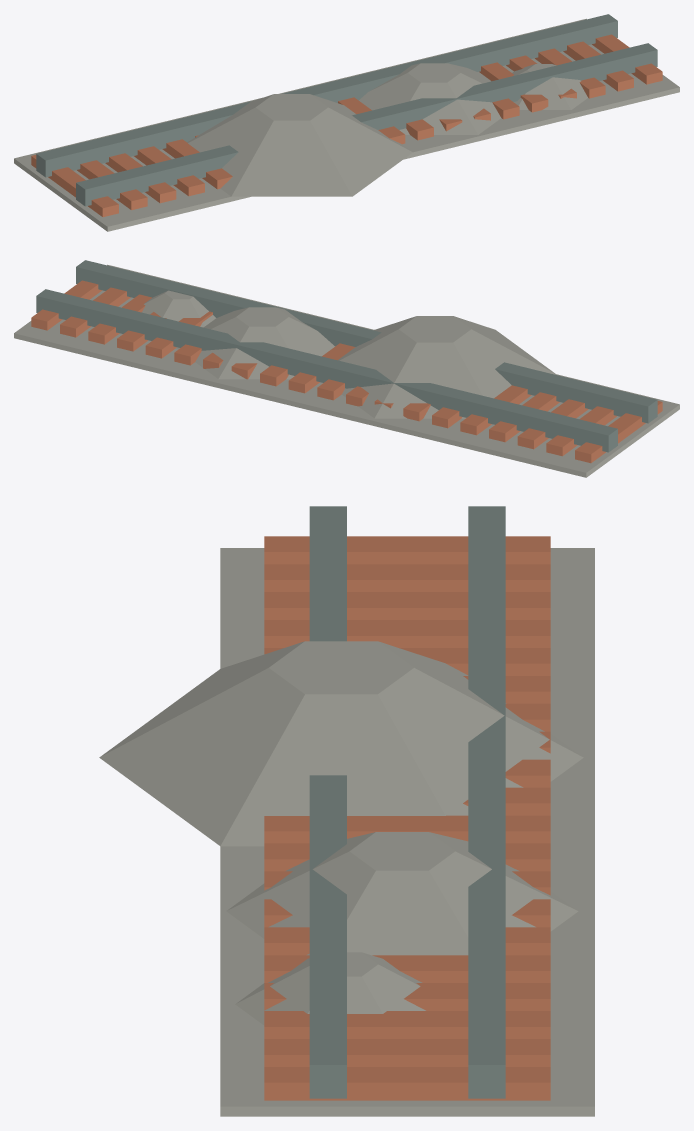
Rendered from SM_ViaRota_v4_Grava_LOD1.fbx.
The picture shows the model from 3 angles, top to bottom: view 1: azimuth 30°, elevation 25°; view 2: azimuth 150°, elevation 25°; view 3: azimuth 270°, elevation 25°; orthographic projection. The views are drawn at different scales.
Parts seen in each view (by area): view 1: SM_aqui_paso_algo_v9_LOD1; view 2: SM_aqui_paso_algo_v9_LOD1; view 3: SM_aqui_paso_algo_v9_LOD1.
Boxes of the visible parts, left/top/right/bottom form: SM_aqui_paso_algo_v9_LOD1: left=14, top=14, right=679, bottom=231; SM_aqui_paso_algo_v9_LOD1: left=14, top=260, right=679, bottom=477; SM_aqui_paso_algo_v9_LOD1: left=99, top=506, right=594, bottom=1116.
Size of the model in its own units: 12 by 1 by 4.5.
